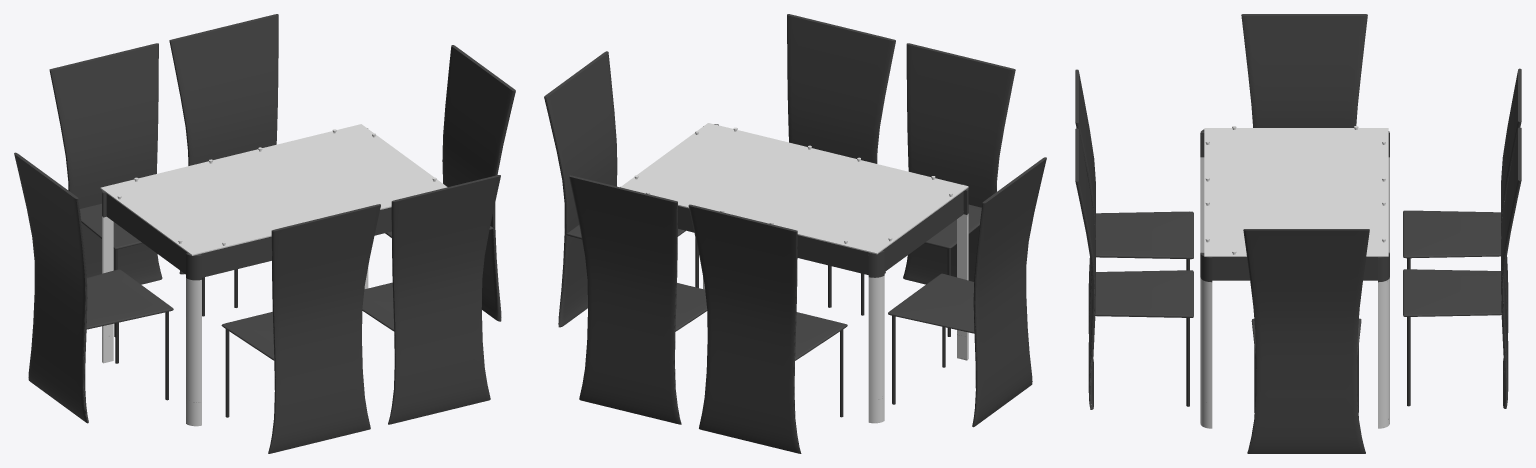
The model's file is chair.fbx.
3 views of the same model, side by side, from view 1: azimuth 30°, elevation 25°; view 2: azimuth 150°, elevation 25°; view 3: azimuth 270°, elevation 25° (orthographic).
Visible parts, largest first — view 1: Plane.001, table glass, Plane.002, Plane.003, Plane.000, Plane.004, Plane.006, table base; view 2: table glass, Plane.003, Plane.004, Plane.000, Plane.001, Plane.002, Plane.006, table base; view 3: Plane.006, table glass, Plane.000, Plane.004, Plane.002, table base, Plane.001, Plane.003.
Boxes of the visible parts, <box> form: Plane.001: <box>221,204,380,453</box>; table glass: <box>100,124,447,255</box>; Plane.002: <box>362,175,500,424</box>; Plane.003: <box>49,43,204,336</box>; Plane.000: <box>14,152,173,423</box>; Plane.004: <box>169,14,278,307</box>; Plane.006: <box>385,45,515,321</box>; table base: <box>102,128,436,426</box>; table glass: <box>620,123,968,254</box>; Plane.003: <box>688,204,847,453</box>; Plane.004: <box>569,175,707,424</box>; Plane.000: <box>888,157,1046,427</box>; Plane.001: <box>861,43,1015,336</box>; Plane.002: <box>787,14,895,307</box>; Plane.006: <box>544,51,698,327</box>; table base: <box>634,124,968,423</box>; Plane.006: <box>1243,229,1369,453</box>; table glass: <box>1204,128,1388,256</box>; Plane.000: <box>1241,14,1367,127</box>; Plane.004: <box>1403,127,1521,408</box>; Plane.002: <box>1075,128,1193,409</box>; table base: <box>1200,126,1389,428</box>; Plane.001: <box>1075,69,1193,333</box>; Plane.003: <box>1403,68,1521,332</box>.
Size of the model in its own units: 840 by 432 by 733.
2 materials, 2 textured.
